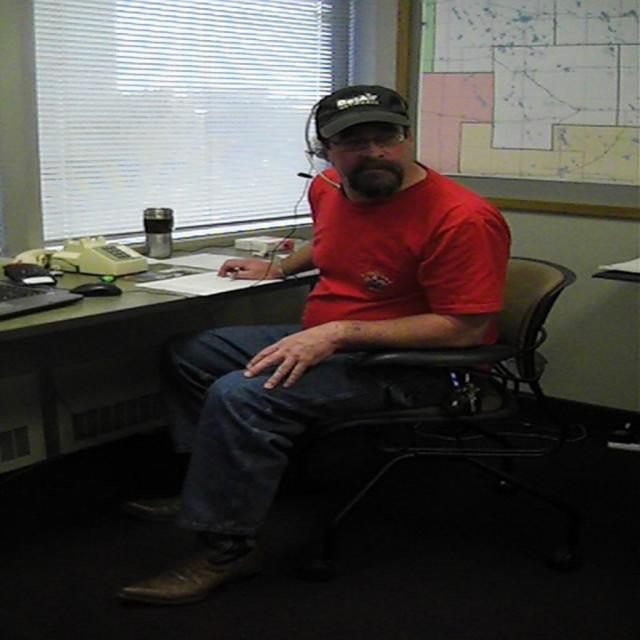chair: (299, 254, 584, 576)
desk: (0, 240, 322, 505)
keyboard: (1, 281, 84, 318)
mouse: (70, 282, 123, 297)
person: (122, 84, 514, 606)
